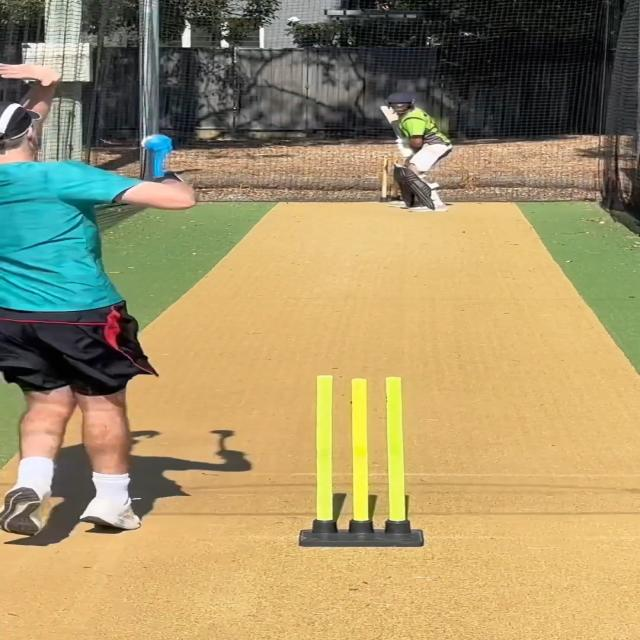stump: (316, 372, 410, 539)
